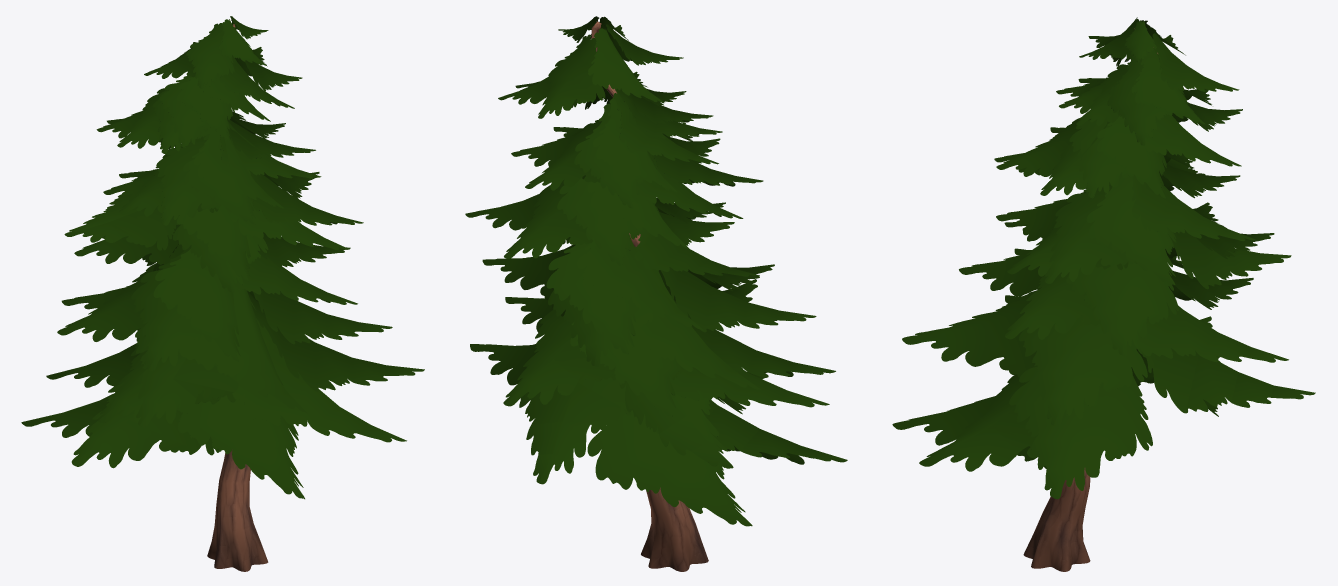
The model's file is quaternius-pine.glb.
The picture shows the model from 3 angles, left to right: view 1: azimuth 30°, elevation 25°; view 2: azimuth 150°, elevation 25°; view 3: azimuth 270°, elevation 25°; orthographic projection. The views are drawn at different scales.
Visible parts, largest first — view 1: Pine_5; view 2: Pine_5; view 3: Pine_5.
Boxes of the visible parts, bbox=[...] form: Pine_5: bbox=[21, 16, 424, 571]; Pine_5: bbox=[465, 16, 847, 571]; Pine_5: bbox=[892, 17, 1315, 571].
Size of the model in its own units: 6.42 by 8.72 by 6.22.
Materials: 2 (2 with a texture image).
